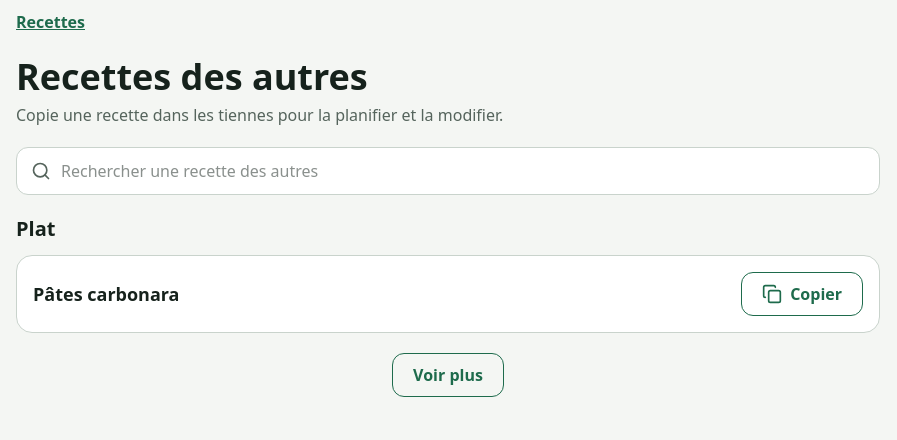
Test: OtherRecipesView : par catégorie › continue la liste par catégorie page après page (offset, même section)
This screenshot has width=897, height=440.
Click the button "Voir plus" at (448,375), box [392,353,504,397]
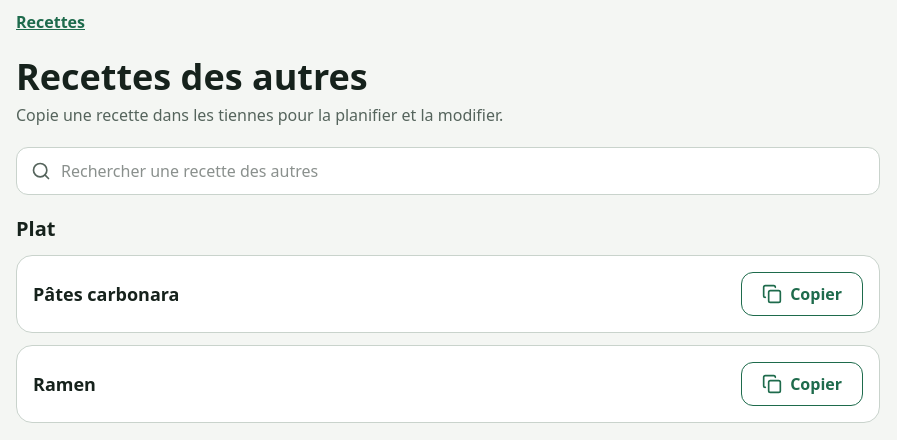
expect the text "Ramen" is shown: met, box [33,372,96,396]
expect the number of list items is 2: met, box [16,255,880,333]; [16,345,880,423]
